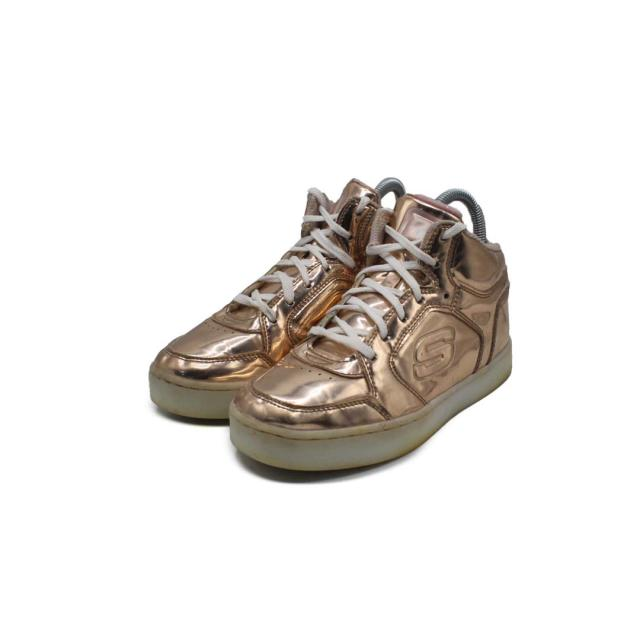midsole: (226, 346, 512, 475), (142, 372, 256, 421)
uppersole: (234, 198, 508, 435), (144, 188, 364, 387)
